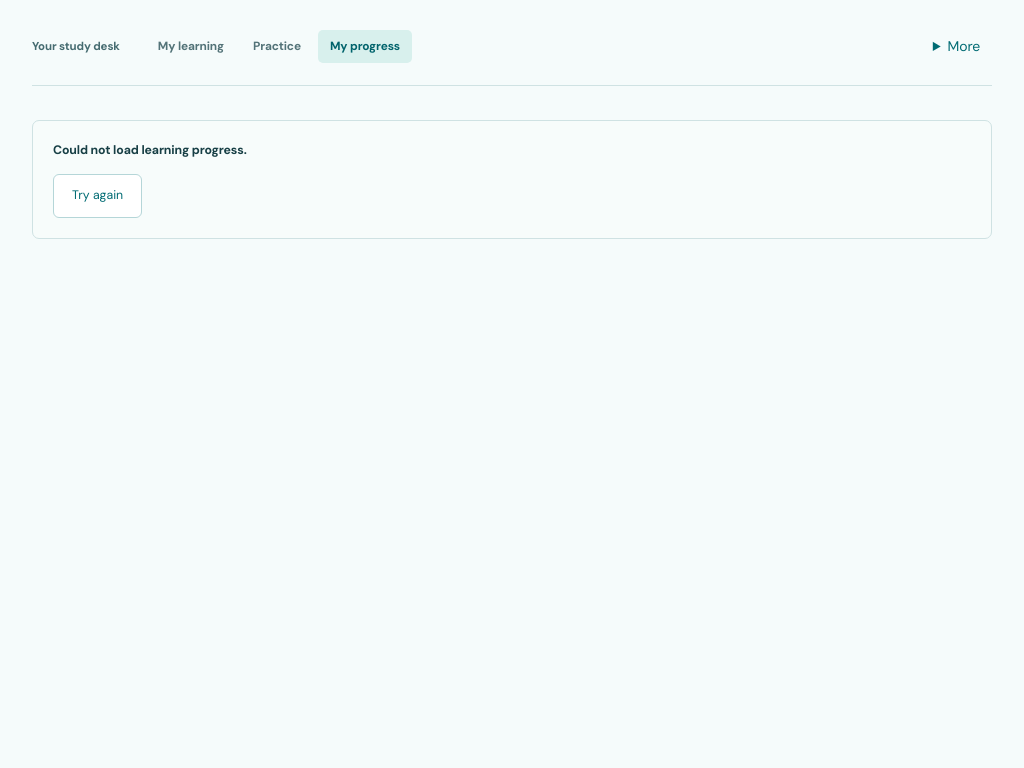
Test case: learning dashboard offers retry after a failed load
This screenshot has width=1024, height=768.
Click the button "Try again" at (98, 196), box left=53, top=174, right=142, bottom=218
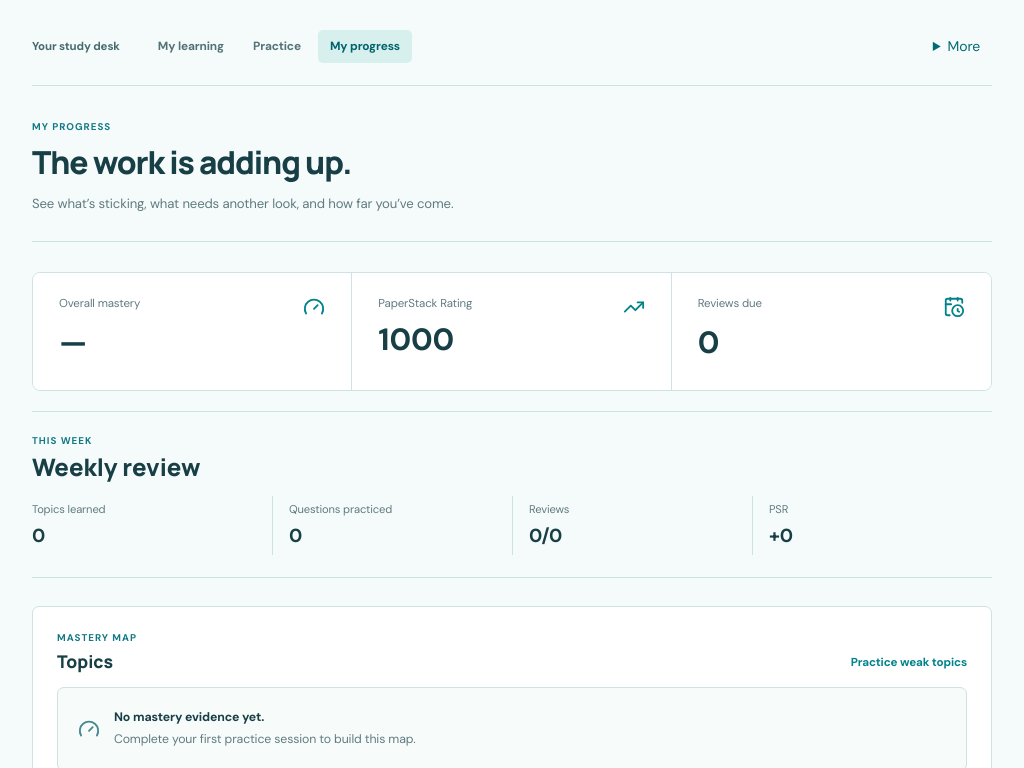
Expected: the heading "The work is adding up." is shown, left=32, top=140, right=351, bottom=184
